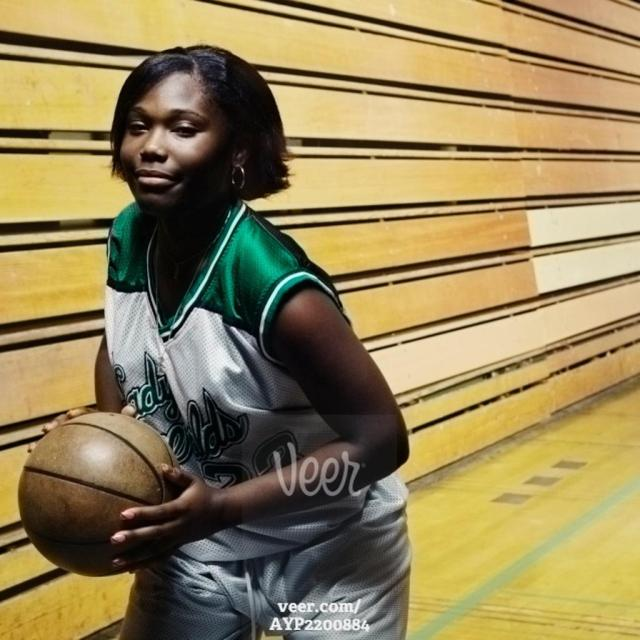Face: (113, 63, 251, 225)
